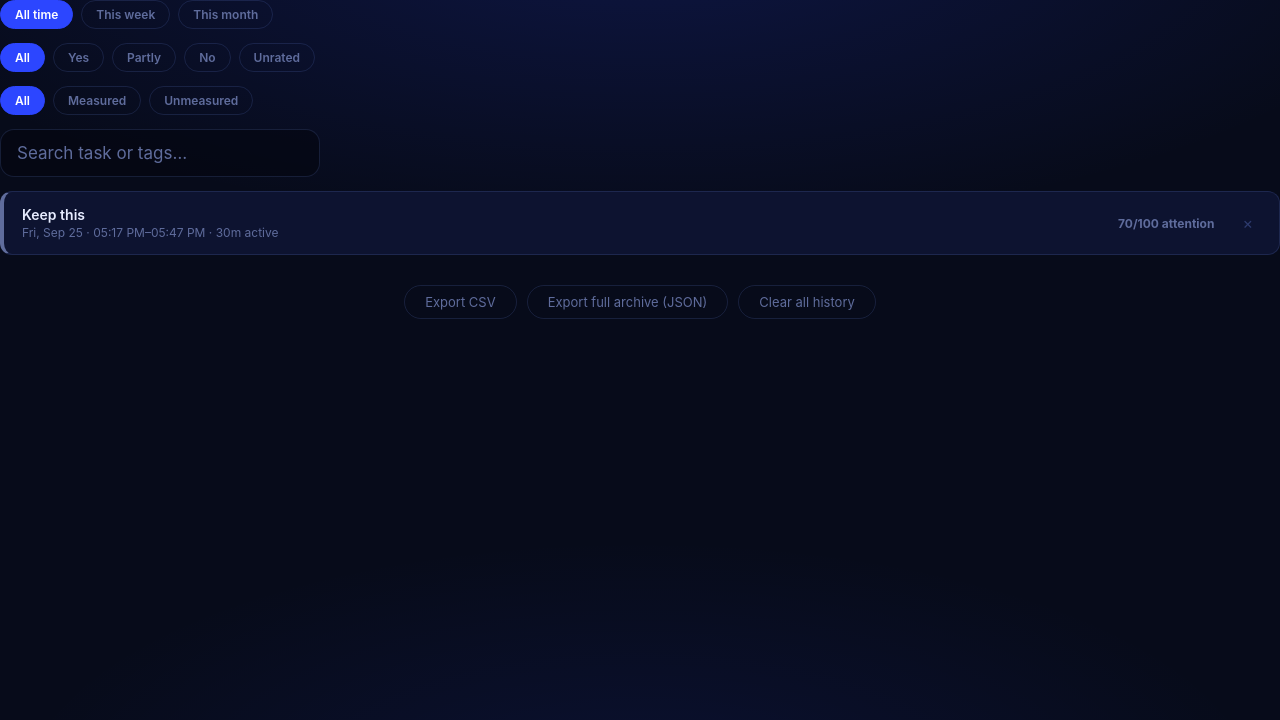
Test: Sessions — destructive actions › keeps the item and reports an honest error when deletion is rejected
Click the button named "Delete Keep this". click: (1248, 223)
box: x1=1234 y1=209 x2=1261 y2=237
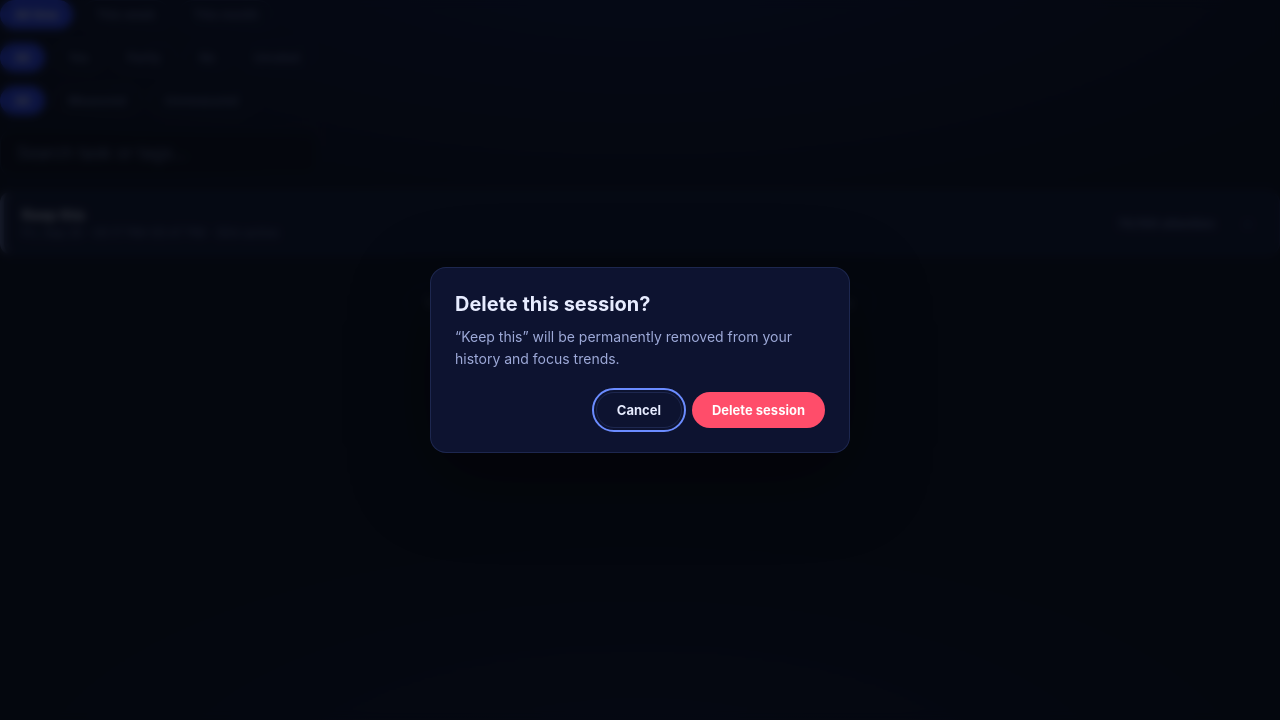
Click the button "Delete session". click: (758, 410)
box: x1=692 y1=392 x2=825 y2=428
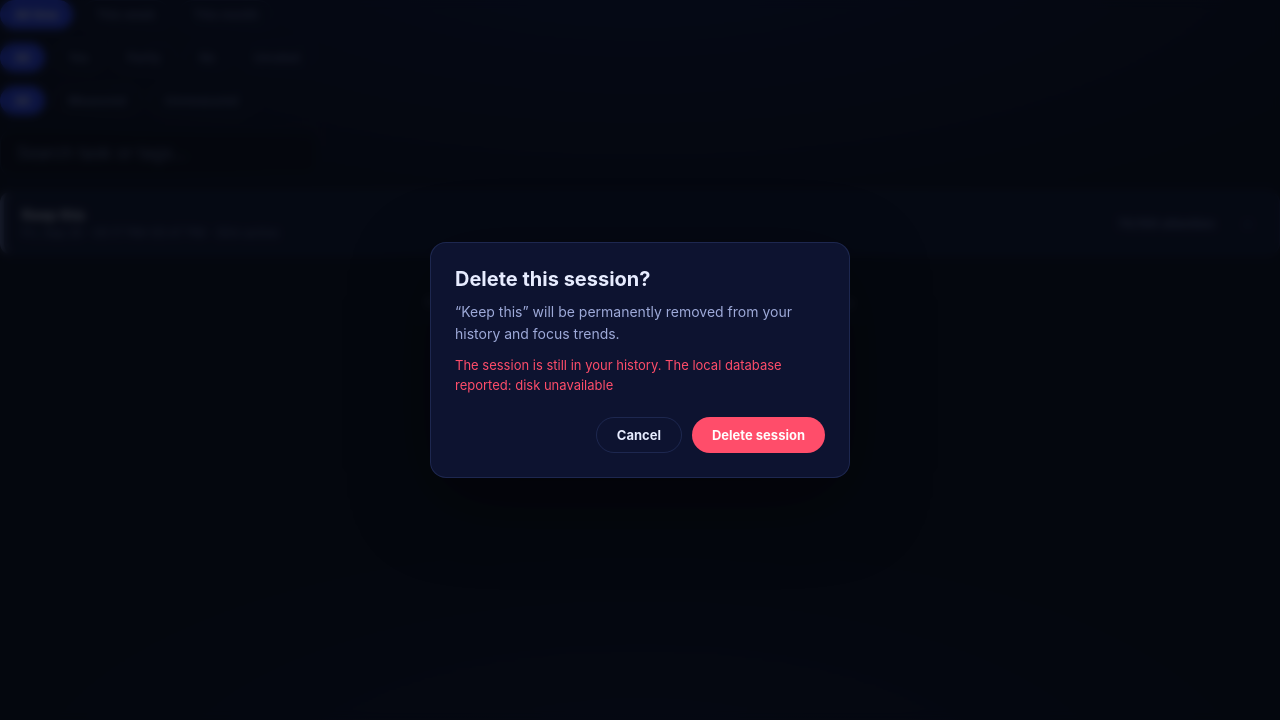
Now the message shows "The session is still in your history. The local database reported: disk unavailable", box x1=455 y1=357 x2=782 y2=393
